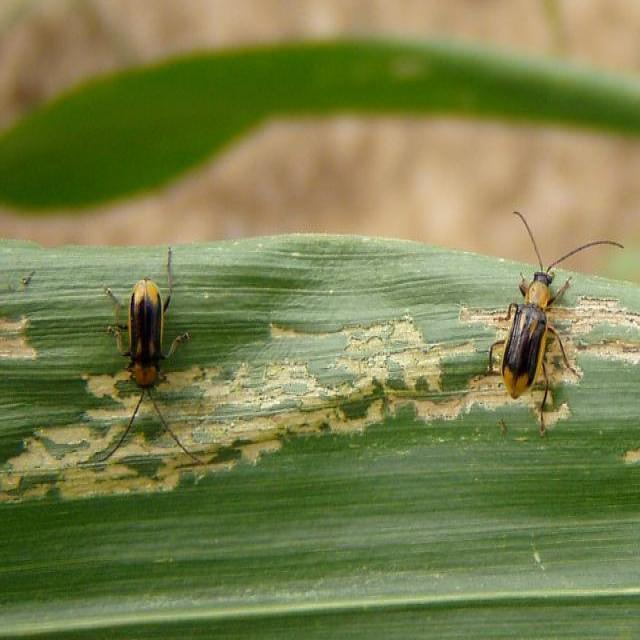trips: (94, 249, 205, 441), (495, 209, 587, 423)
